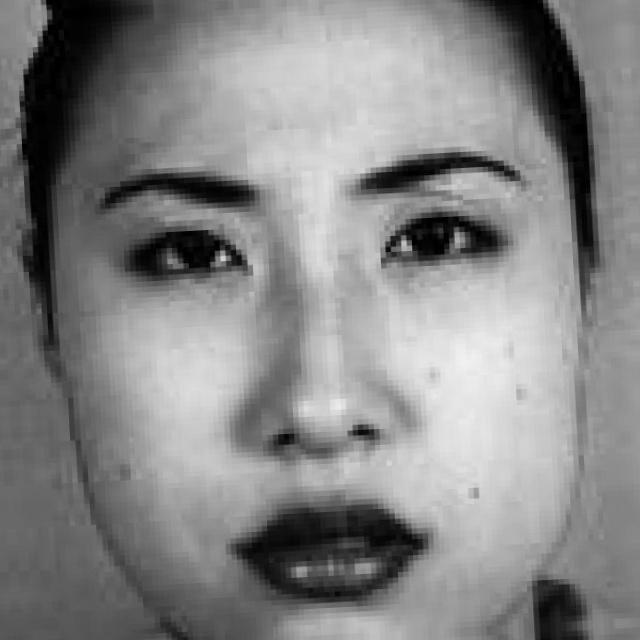disgust: (72, 74, 579, 620)
